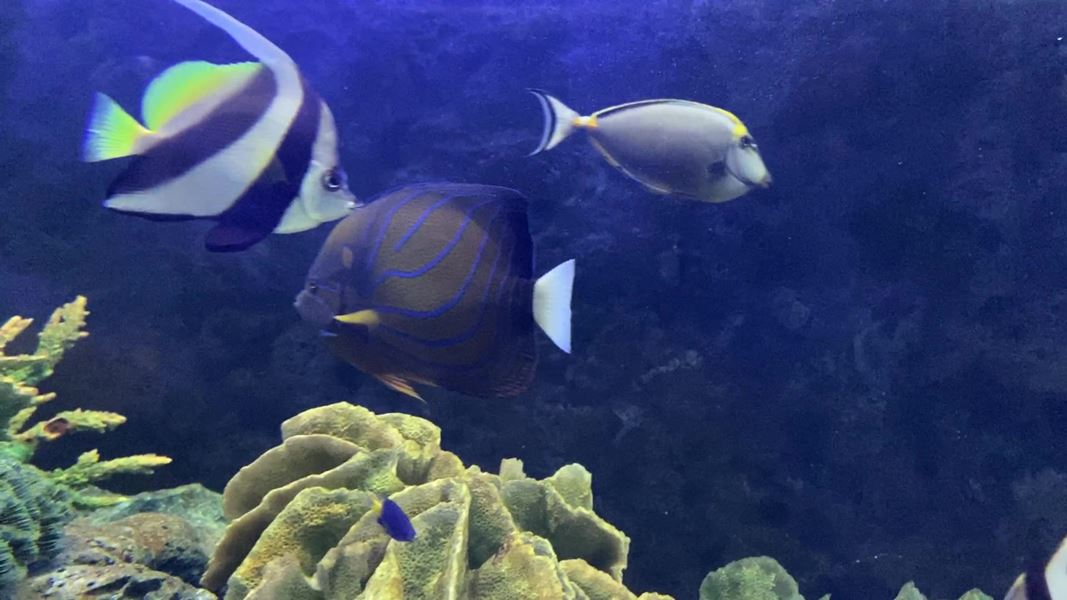Blue ring angelfish: (293, 177, 611, 430)
